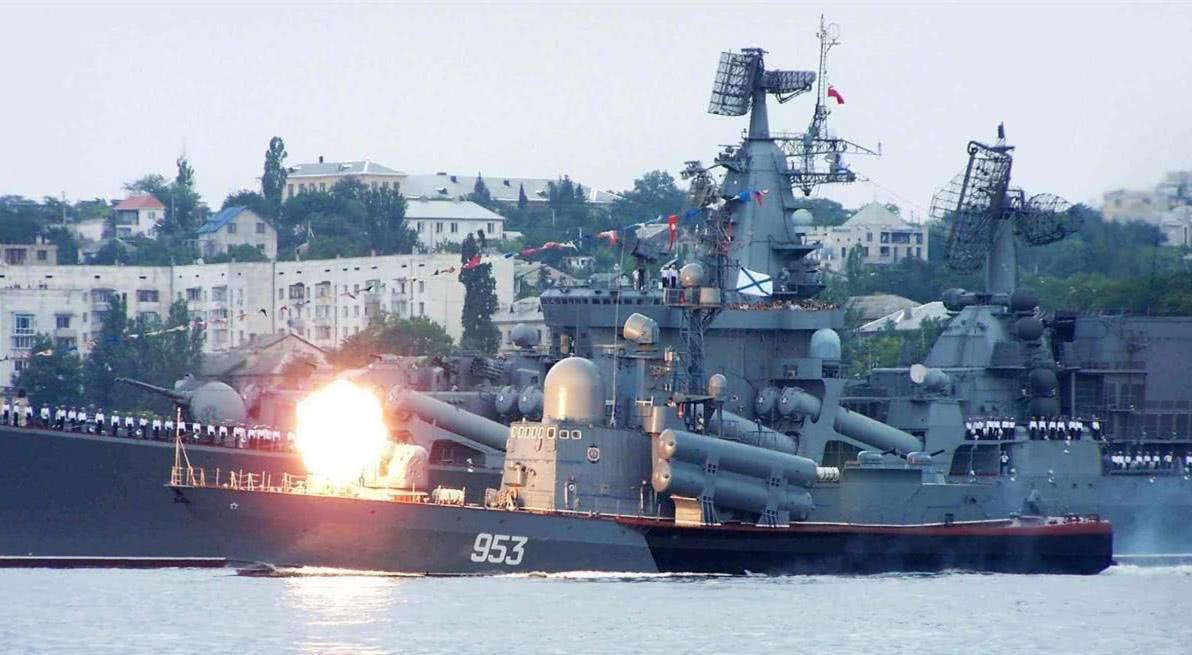warship: (178, 14, 1133, 572)
